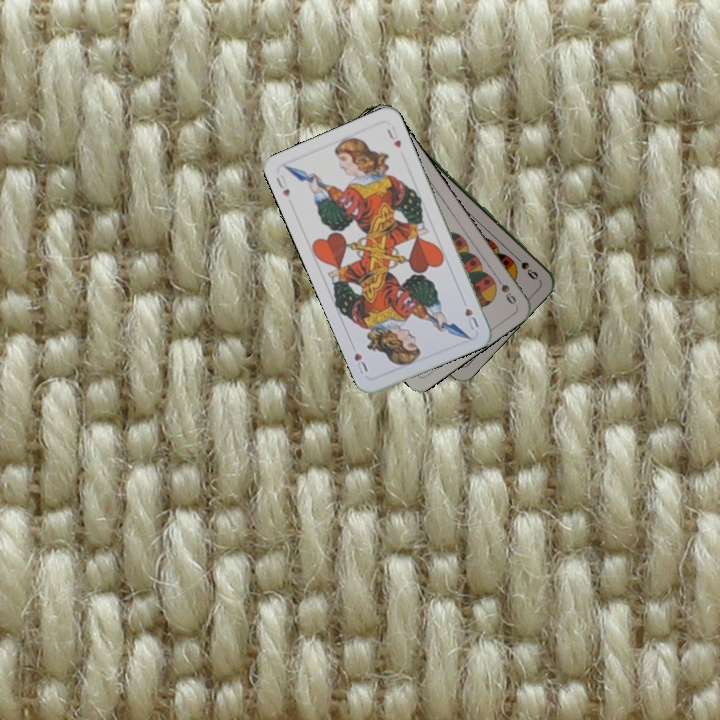HU: (461, 304, 481, 333), (272, 171, 292, 199)
S9: (509, 250, 541, 282), (491, 271, 519, 307)
